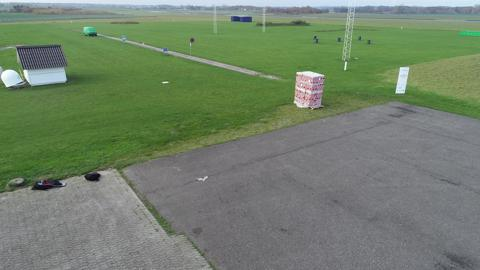RockwoolPallet: (294, 71, 326, 109)
